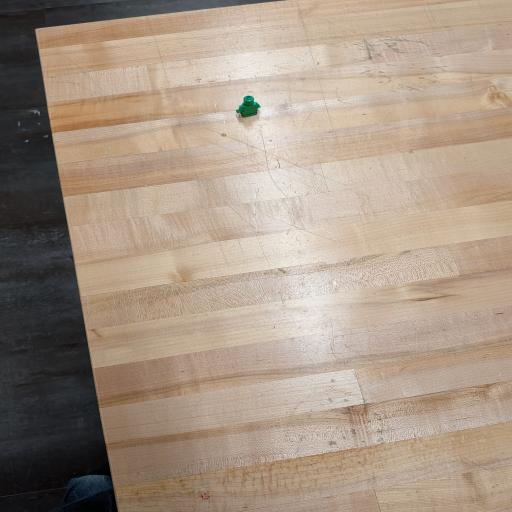Minifig: (236, 96, 260, 117)
